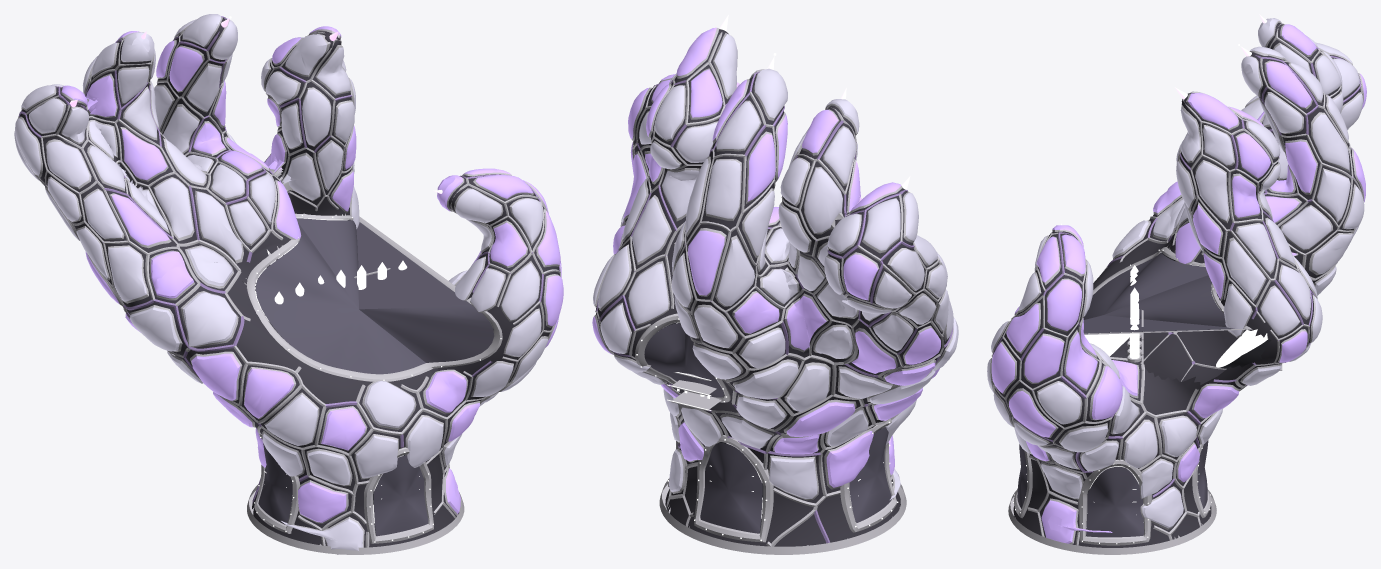
The picture shows the model from 3 angles, left to right: view 1: azimuth 30°, elevation 25°; view 2: azimuth 150°, elevation 25°; view 3: azimuth 270°, elevation 25°; orthographic projection. The views are drawn at different scales.
Visible parts, largest first — view 1: DC_capsules, DC_windows, DC_hand, DC_ribs; view 2: DC_capsules, DC_hand, DC_windows, DC_ribs; view 3: DC_capsules, DC_hand, DC_windows, DC_ribs.
Boxes of the visible parts, bbox=[...] form: DC_capsules: bbox=[14, 14, 563, 554]; DC_windows: bbox=[244, 213, 502, 554]; DC_hand: bbox=[19, 17, 559, 547]; DC_ribs: bbox=[18, 16, 560, 547]; DC_capsules: bbox=[592, 27, 958, 500]; DC_hand: bbox=[596, 29, 949, 546]; DC_windows: bbox=[635, 313, 906, 554]; DC_ribs: bbox=[595, 32, 953, 546]; DC_capsules: bbox=[987, 18, 1366, 544]; DC_hand: bbox=[993, 22, 1362, 547]; DC_windows: bbox=[1008, 246, 1282, 554]; DC_ribs: bbox=[991, 23, 1362, 545].
Bounding box in the file's own units: 1290 × 1462 × 1137.
